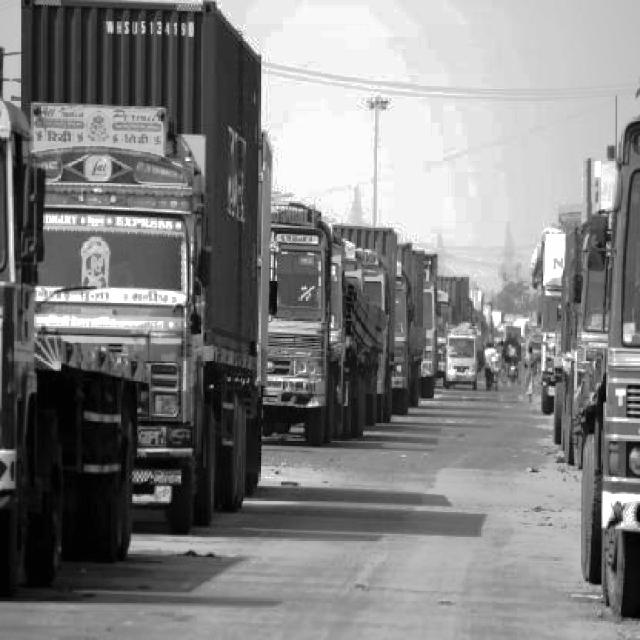HCV: (34, 33, 278, 514), (255, 192, 354, 427), (606, 109, 640, 601), (337, 203, 404, 402), (378, 228, 429, 380), (318, 226, 356, 421), (418, 258, 449, 381)
